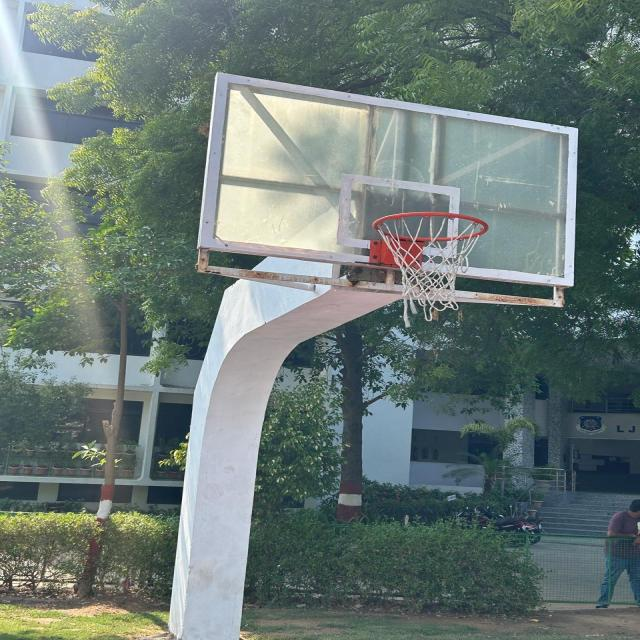hoop: (346, 199, 506, 331)
